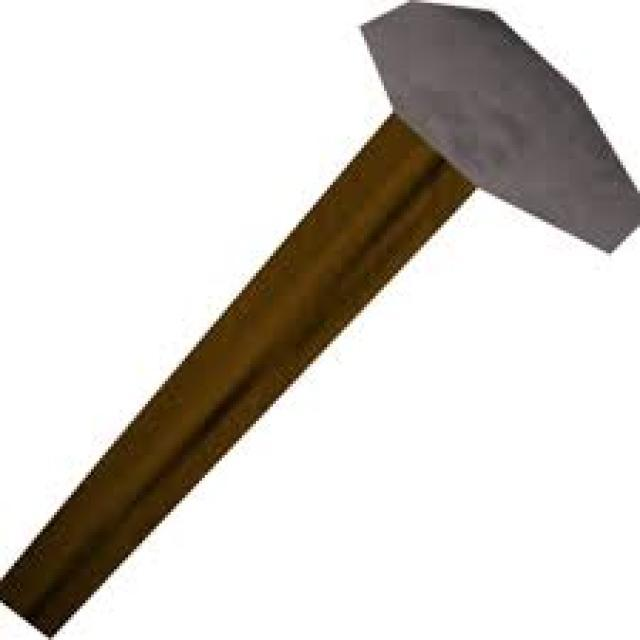Palu: (10, 6, 628, 640)
